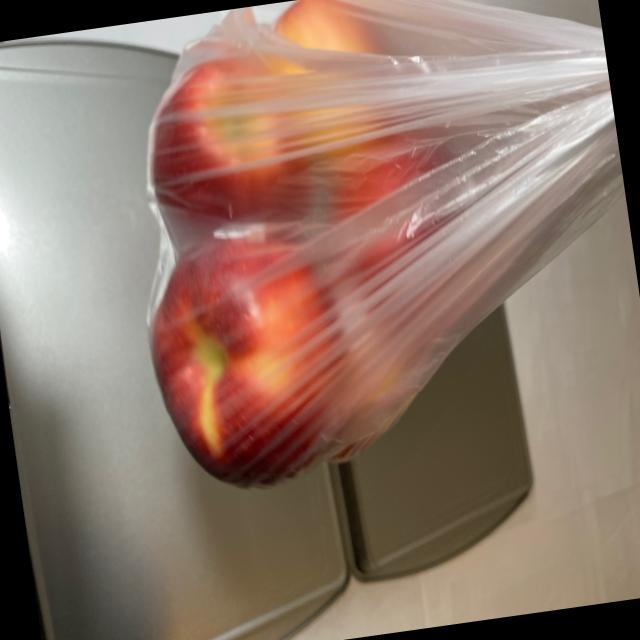apple: (101, 0, 532, 508)
